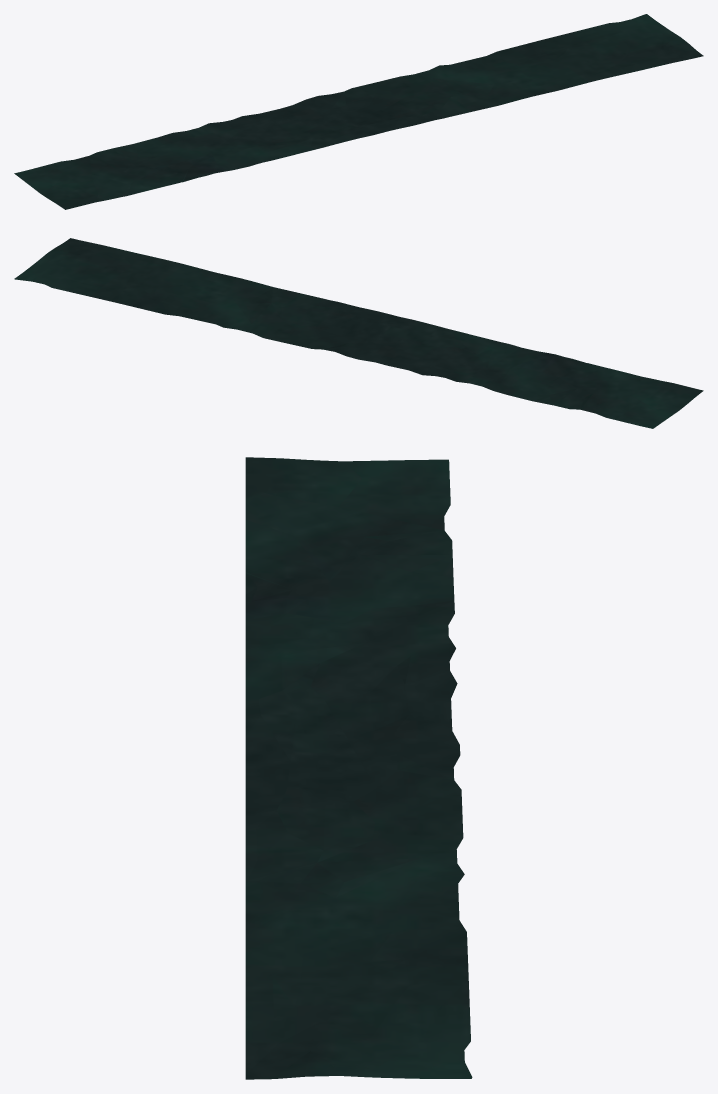
The picture shows the model from 3 angles, top to bottom: view 1: azimuth 30°, elevation 25°; view 2: azimuth 150°, elevation 25°; view 3: azimuth 270°, elevation 25°; orthographic projection. The views are drawn at different scales.
Size of the model in its own units: 209 by 0.8155 by 32.4.
Materials: 1 (1 with a texture image).
